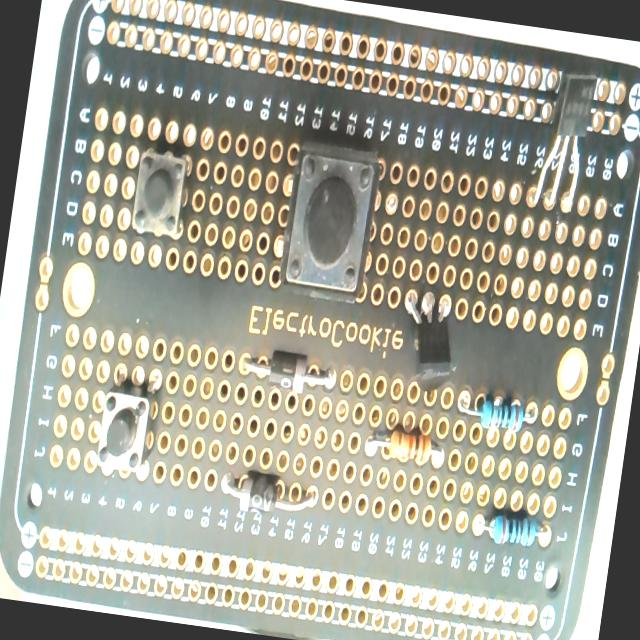diode: (216, 467, 318, 523), (240, 348, 340, 400)
resistor: (359, 418, 454, 473), (455, 388, 539, 436), (479, 508, 550, 552)
switch: (276, 141, 384, 302), (96, 378, 159, 474), (129, 146, 191, 241)
transistor: (522, 64, 610, 217), (402, 267, 469, 403)
